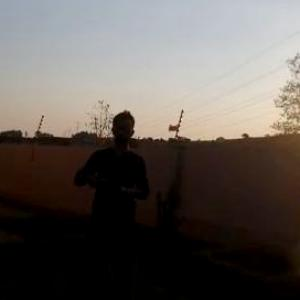follow: (66, 102, 158, 299)
